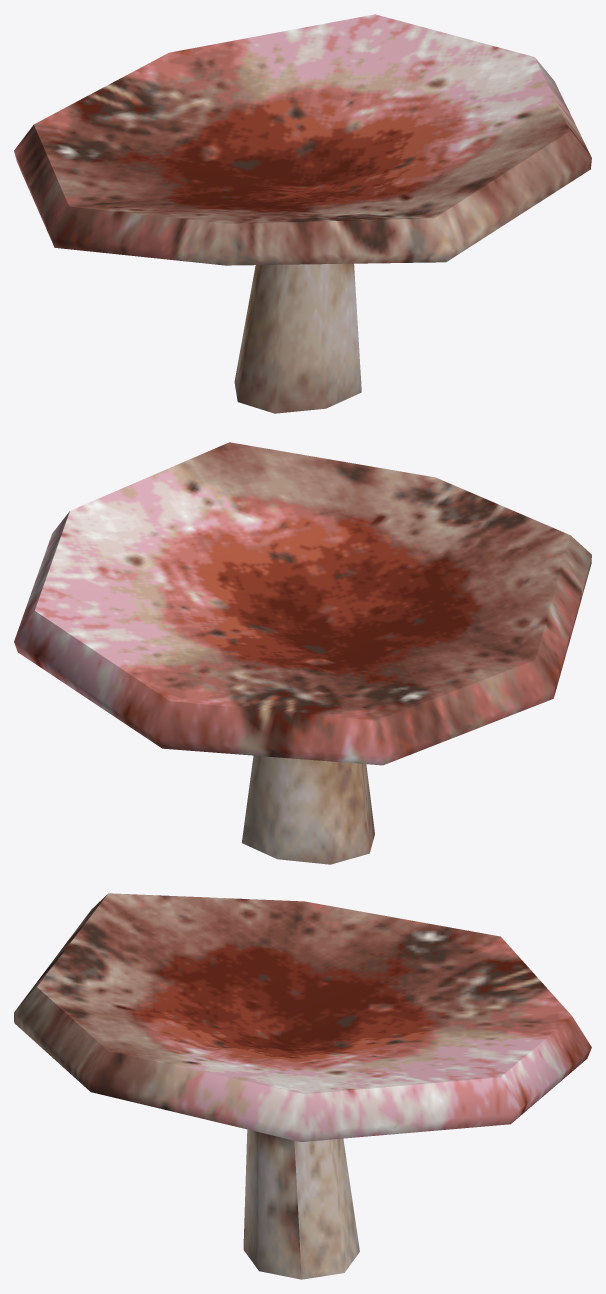
File: fp_mushroom_1.glb
3 renders of one model, top to bottom at view 1: azimuth 30°, elevation 25°; view 2: azimuth 150°, elevation 25°; view 3: azimuth 270°, elevation 25°, orthographic.
Visible parts, largest first — view 1: _MeshInstance3D_31; view 2: _MeshInstance3D_31; view 3: _MeshInstance3D_31.
Boxes of the visible parts, <box> form: _MeshInstance3D_31: <box>14,14,591,413</box>; _MeshInstance3D_31: <box>14,442,591,864</box>; _MeshInstance3D_31: <box>14,893,591,1279</box>.
Size of the model in its own units: 0.2789 by 0.1505 by 0.276.
Materials: 1 (1 with a texture image).
